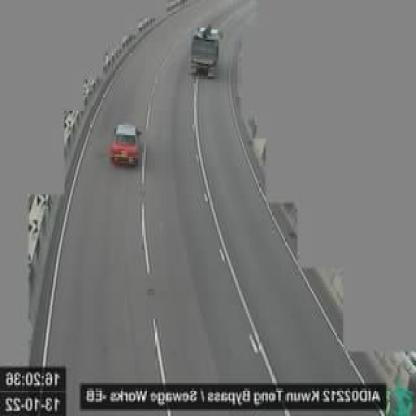Car: (106, 121, 142, 170)
Truck: (190, 24, 223, 77)
